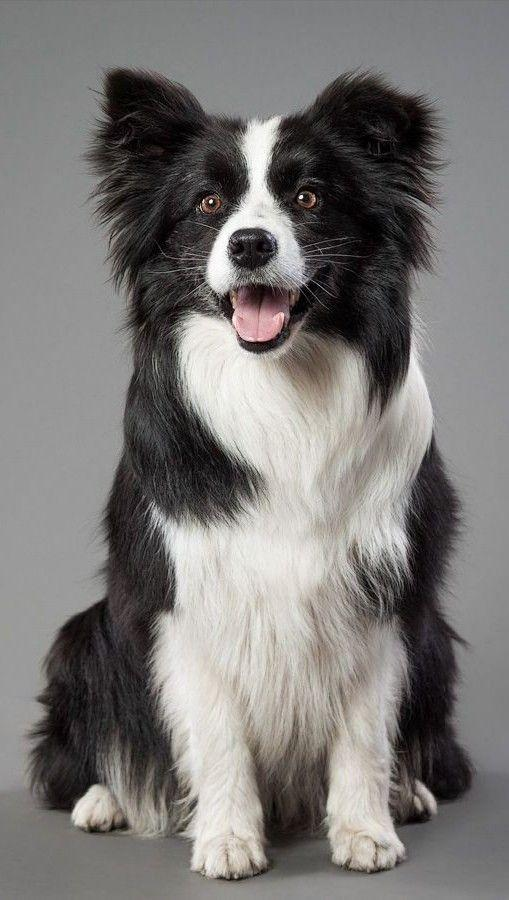adult_dog: (25, 66, 476, 885)
